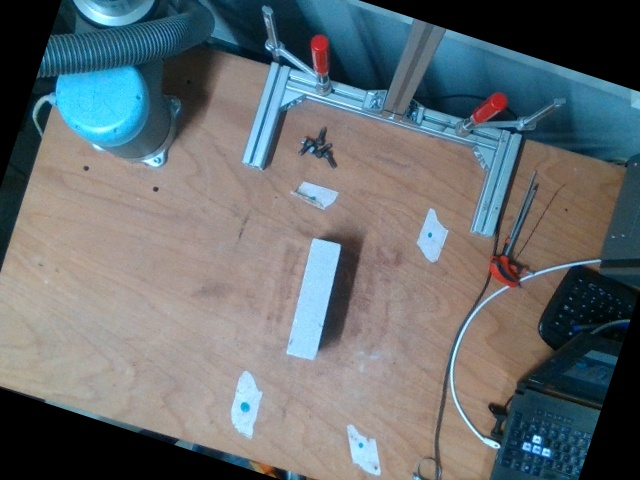brick-side: (287, 238, 342, 361)
